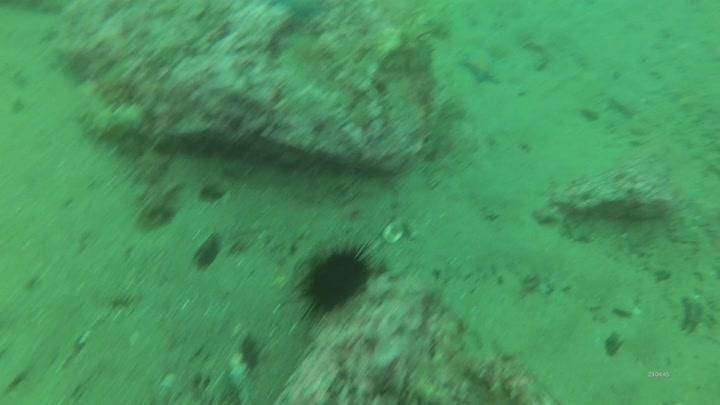echinus: (294, 240, 377, 317)
holothurian: (71, 79, 149, 145)
starfish: (457, 45, 502, 88)
